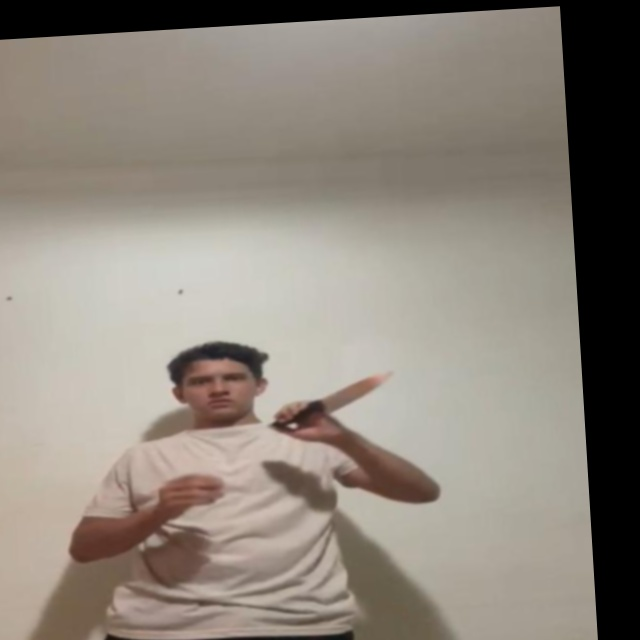Sharp-Object: (318, 367, 397, 410)
